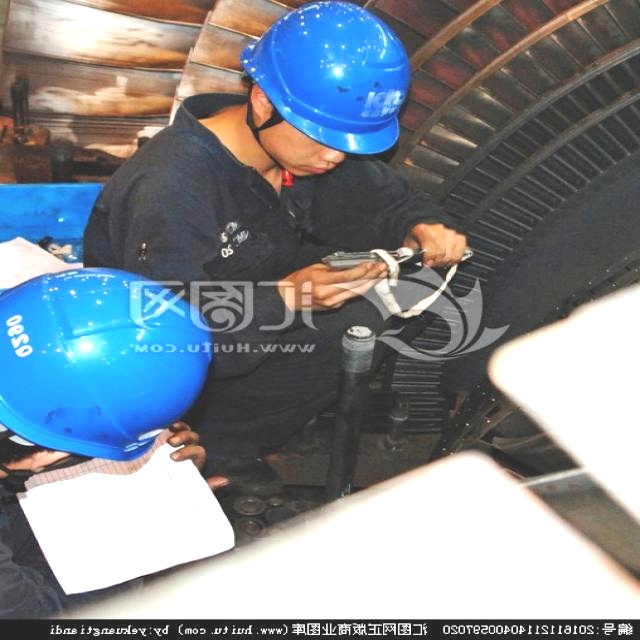Con_Casco: (238, 5, 407, 182)
